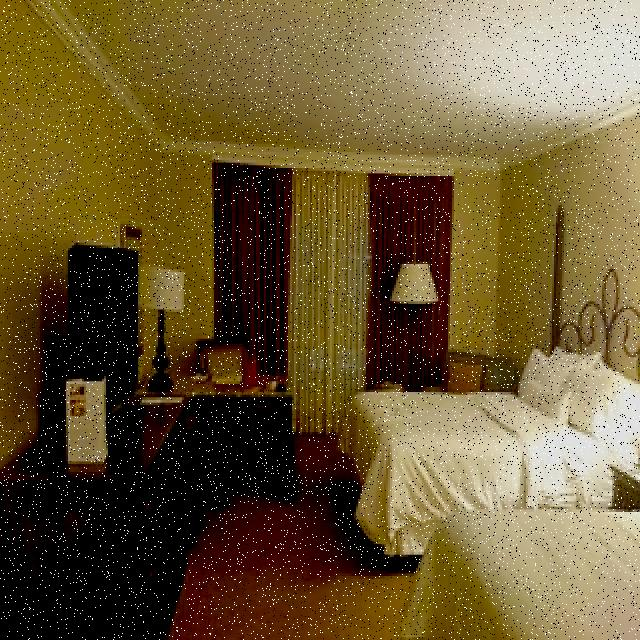bed: (386, 274, 640, 514)
